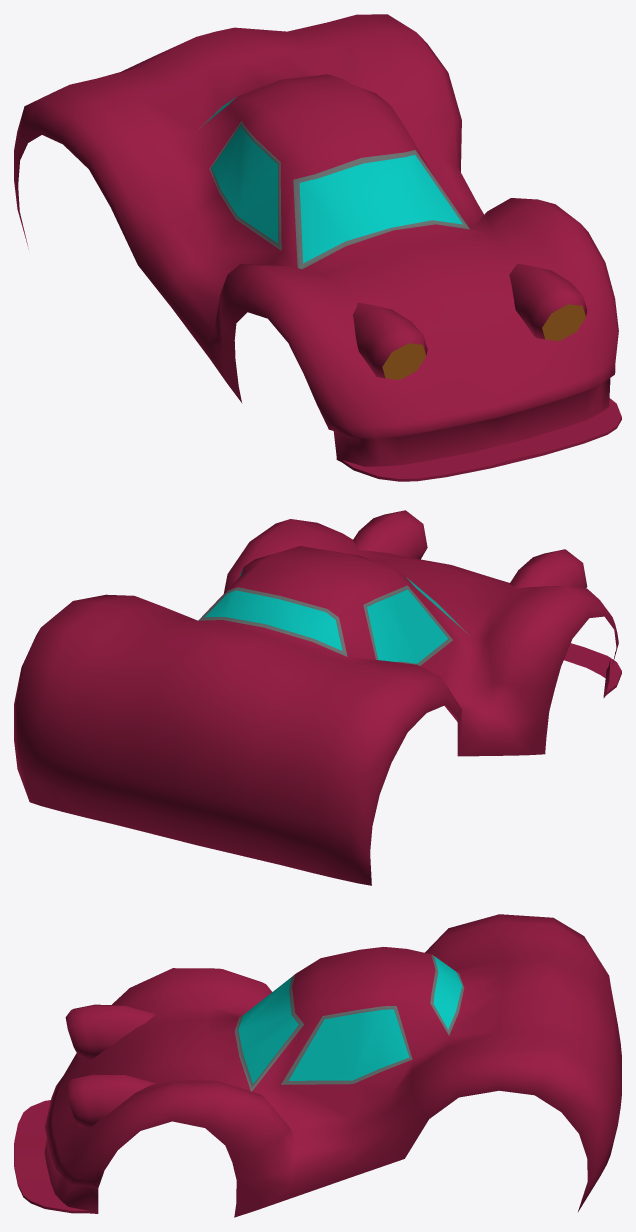
File: LuxCasing02C01.gltf
3 views of the same model, one above another, from view 1: azimuth 30°, elevation 25°; view 2: azimuth 150°, elevation 25°; view 3: azimuth 270°, elevation 25° (orthographic). The views are drawn at different scales.
Visible parts, largest first — view 1: LuxCasing02C01; view 2: LuxCasing02C01; view 3: LuxCasing02C01.
Boxes of the visible parts, x1,y1,x2,y2 form: LuxCasing02C01: (14, 14, 621, 481); LuxCasing02C01: (14, 510, 621, 885); LuxCasing02C01: (14, 914, 621, 1217).
Bounding box in the file's own units: 0.2179 × 0.1224 × 0.3506.
